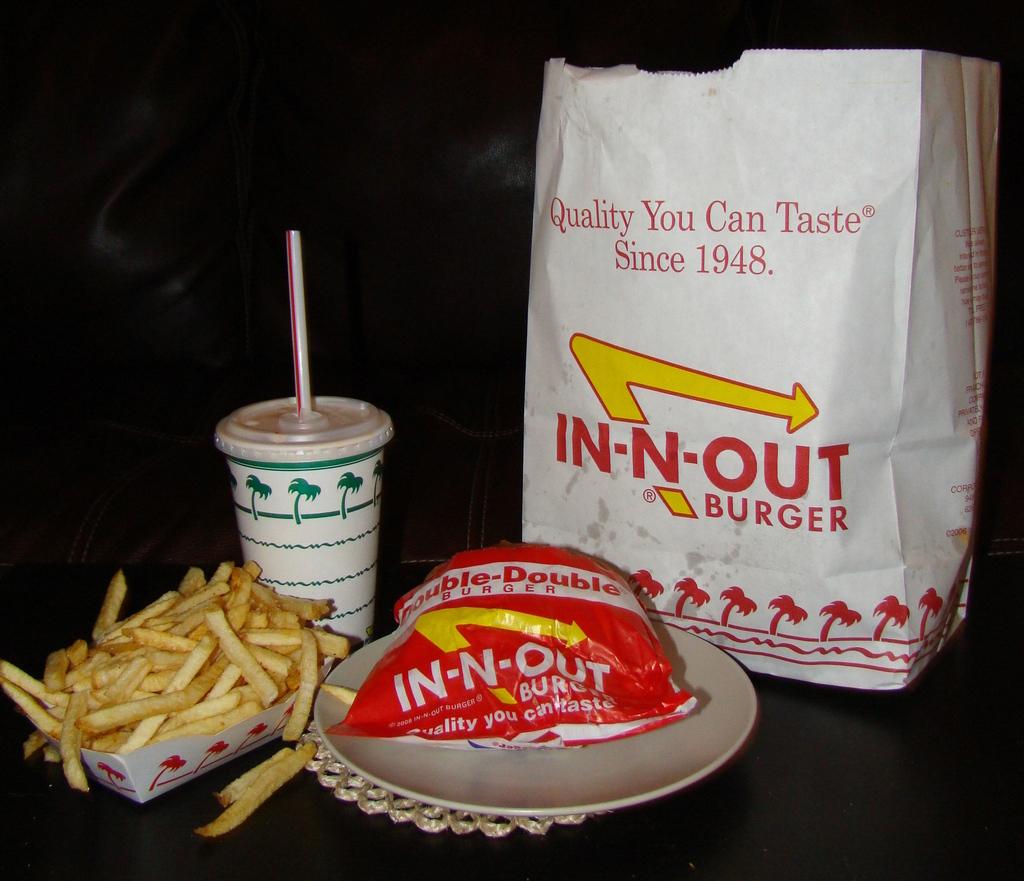French fries: (13, 581, 359, 793)
